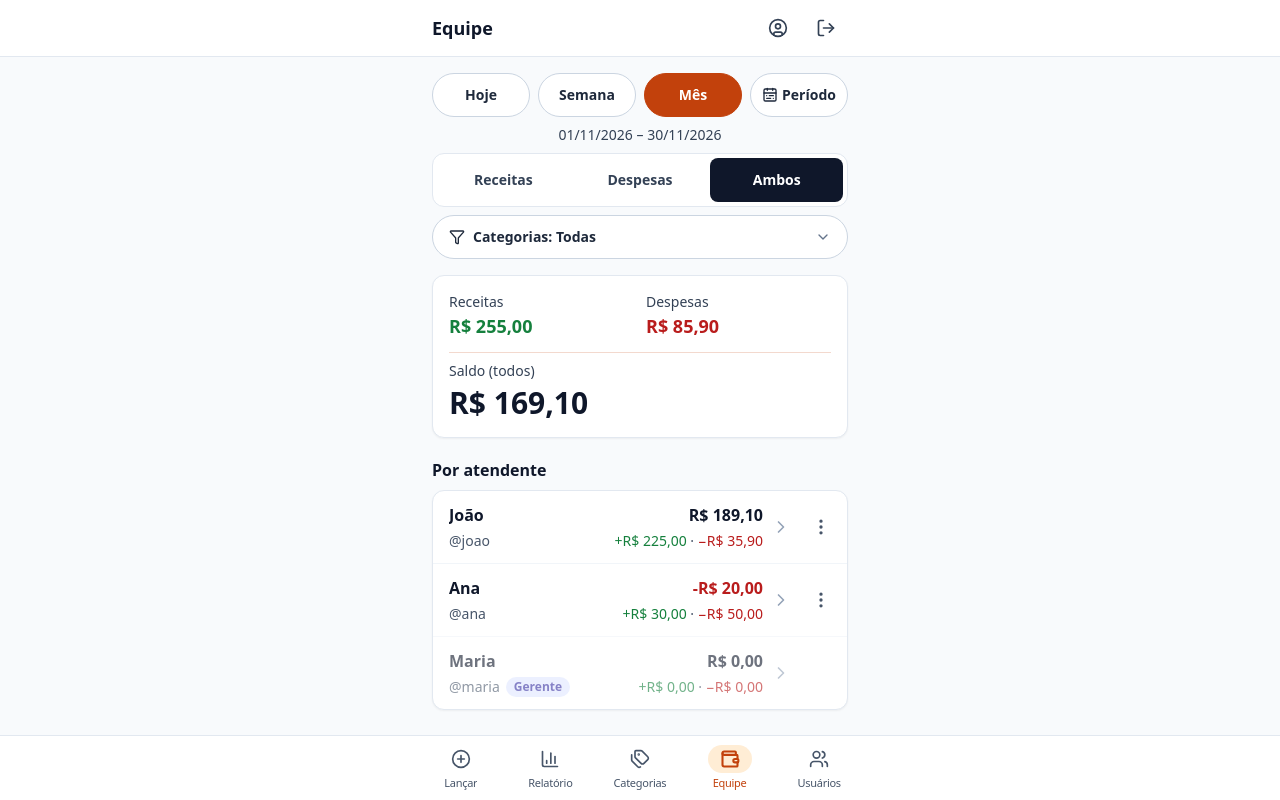
it: Equipe: Receitas | Despesas | Ambos › Ambos: filtro "Despesas" por nome (dnomes) — desmarcar Combustível deixa João com saldo R$ 225,00
Click the button "Categorias: Todas": (534, 236) [432, 215, 848, 259]
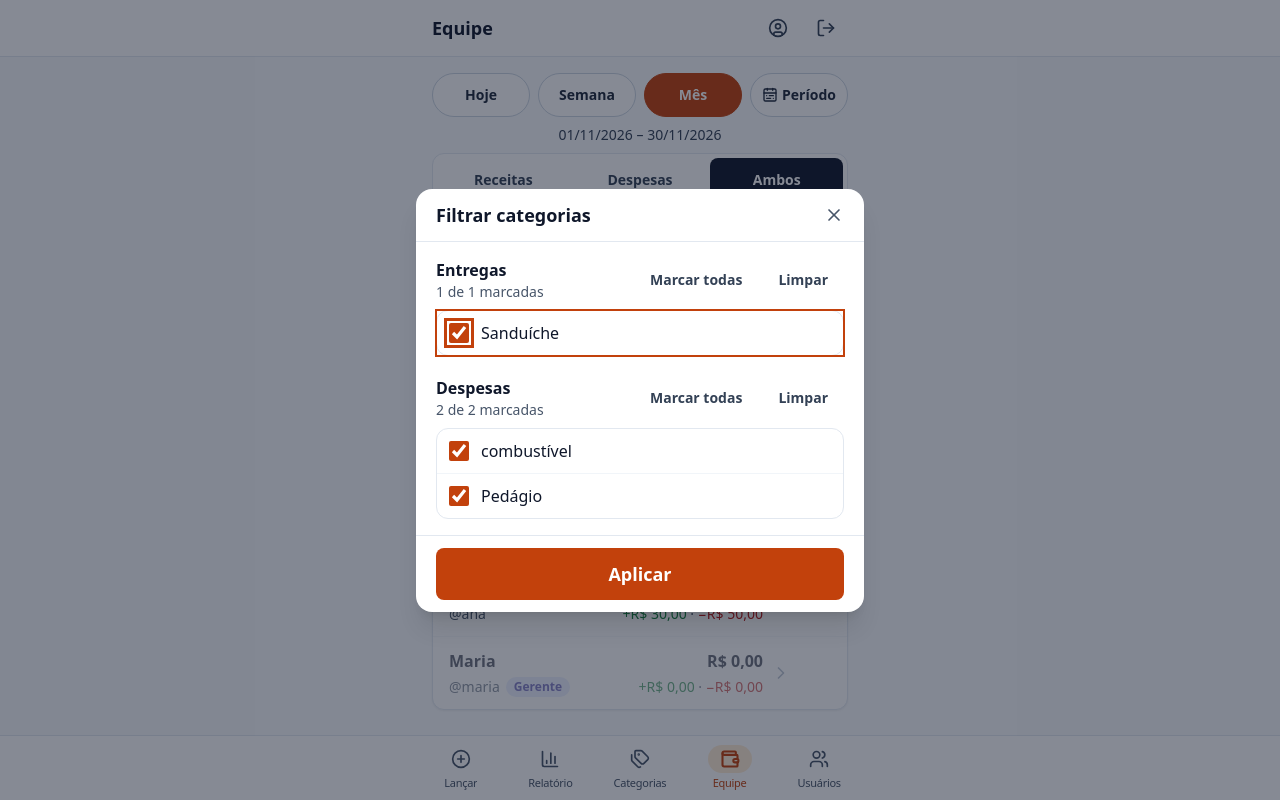
Expected: the number of checkboxes labelled "combustível" is 1
Click the checkbox labelled "combustível": (459, 450) [449, 440, 469, 460]
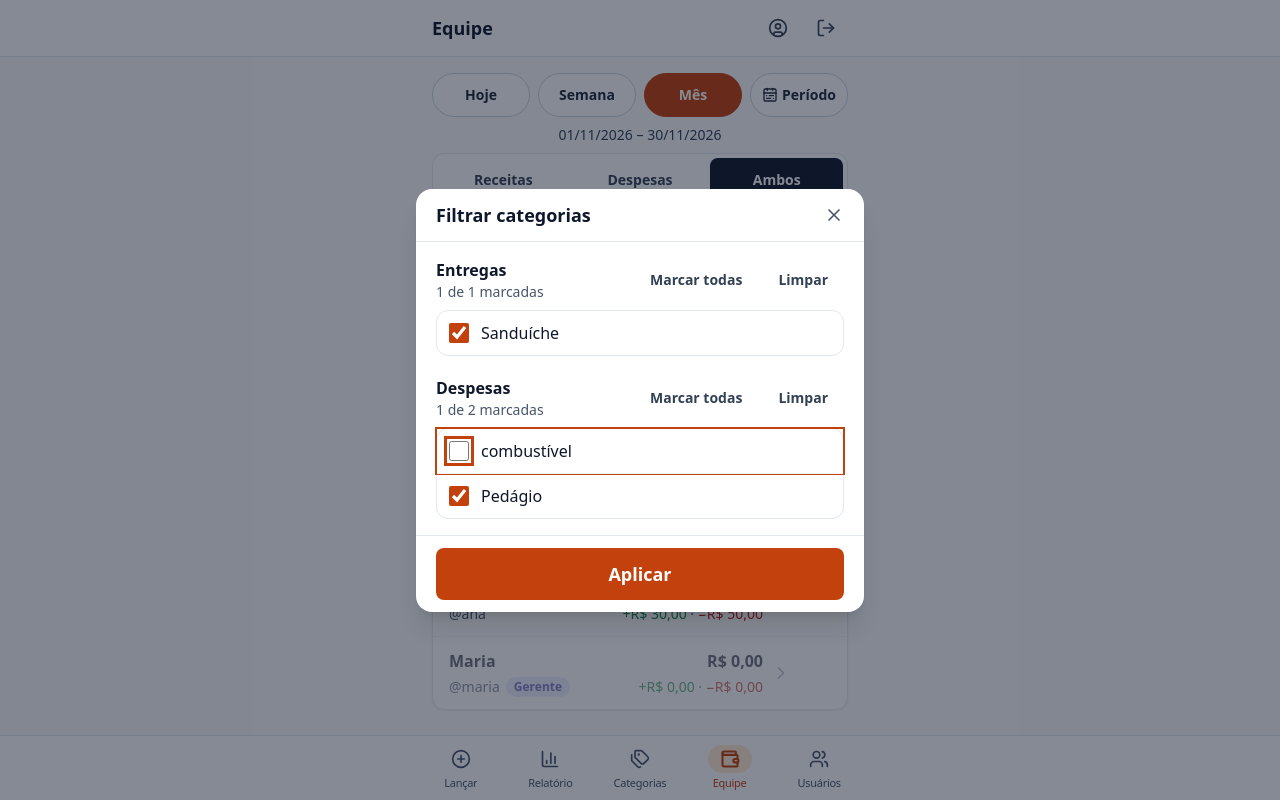
Click the button "Aplicar": (640, 574) [436, 548, 844, 600]
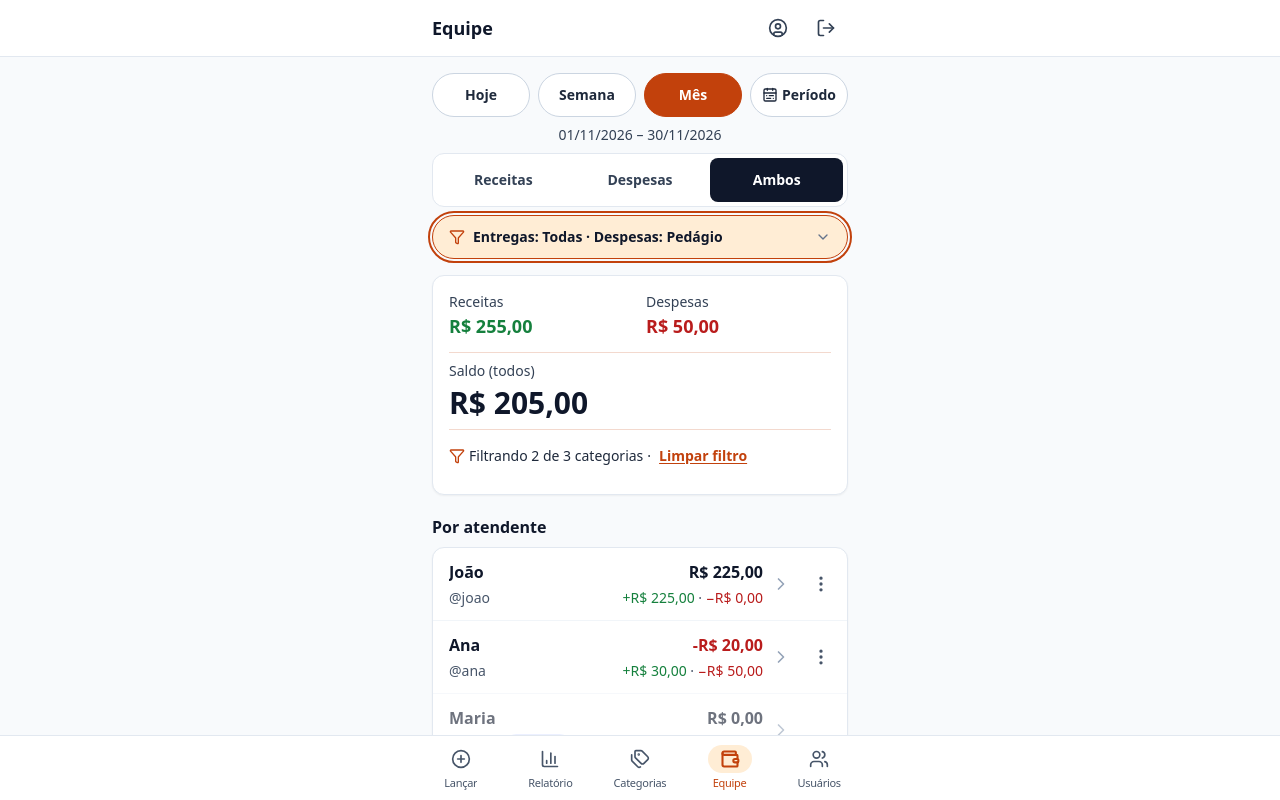
Expected: the text with test id "equipe-valor" reads "R$ 225,00", [689, 561, 763, 583]
Expected: the button "Entregas: Todas · Despesas: Pedágio" is shown, [432, 215, 848, 259]
